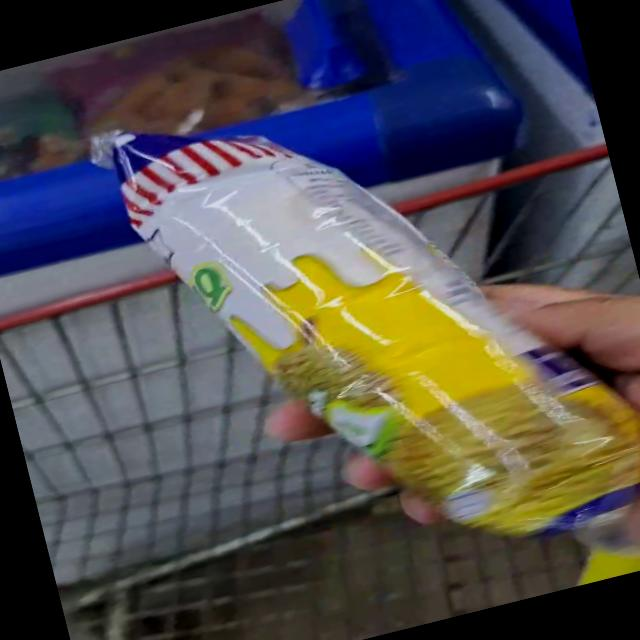Roti: (222, 220, 640, 592), (49, 82, 410, 394)
